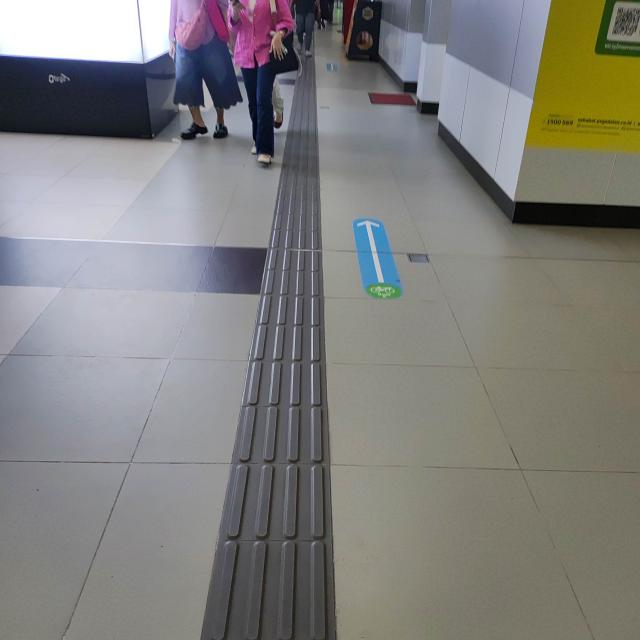lurus: (200, 174, 356, 640)
